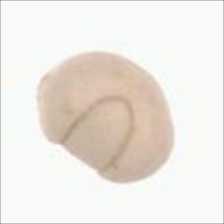L5: (61, 94, 136, 173)
L6: (35, 50, 176, 186)
